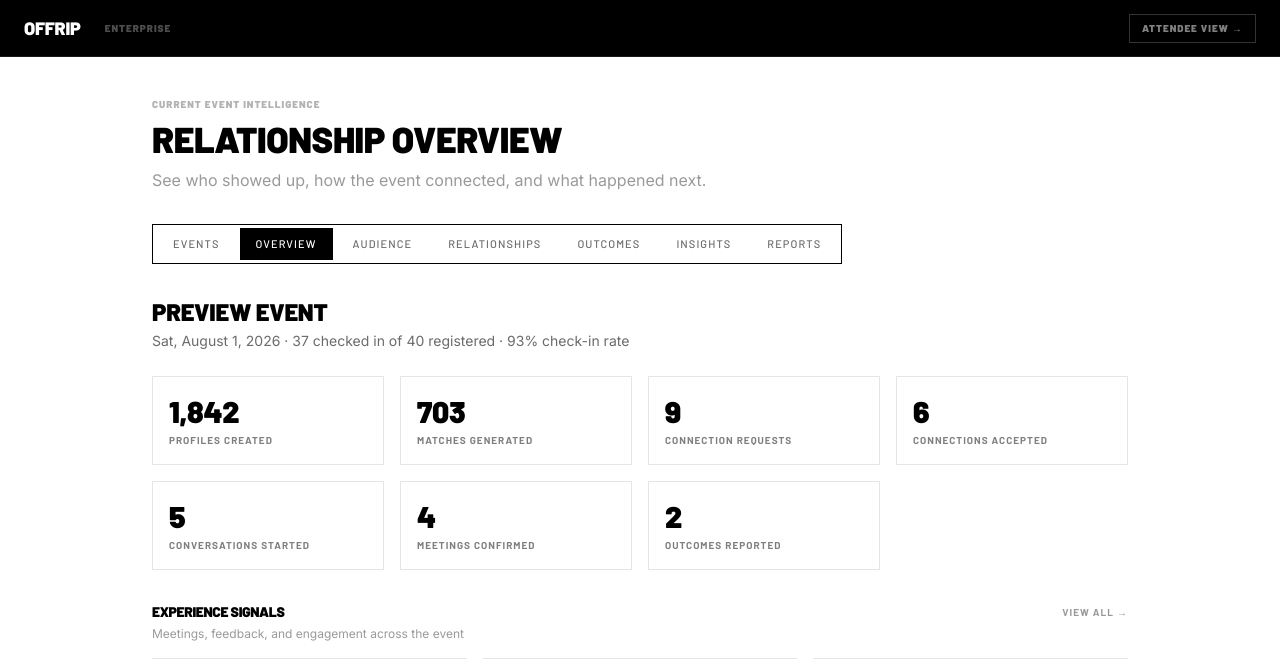
OrganizerAdmin — enterprise tabs › renders the Audience tab breakdowns
Expected: the text "PROFILES CREATED" is shown, x1=169 y1=434 x2=273 y2=446
Expected: the text "WHO WAS IN THE EVENT?" is not shown
Press the mouse on the tab "Audience" at (382,244), box x1=337 y1=228 x2=428 y2=260
(page scrolled)
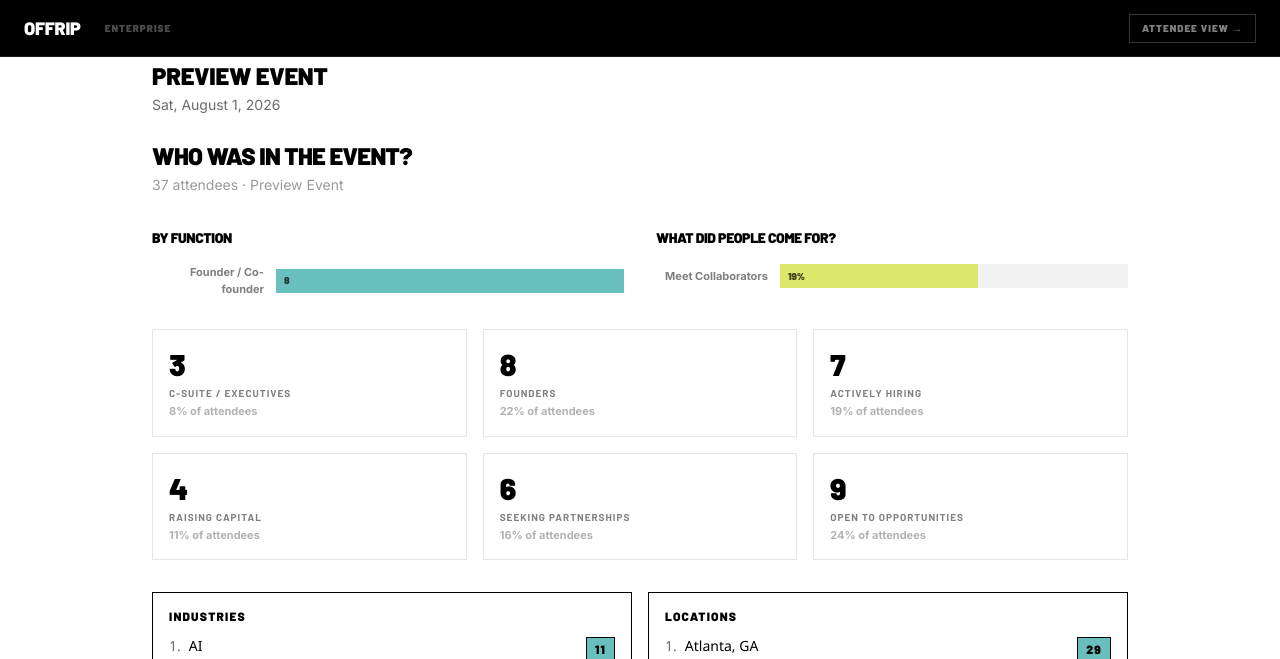
Expected: the text "WHO WAS IN THE EVENT?" is shown, x1=152 y1=141 x2=412 y2=170
Expected: the text "BY FUNCTION" is shown, x1=152 y1=229 x2=232 y2=246
Expected: the text "Open to opportunities" is shown, x1=830 y1=510 x2=964 y2=522
